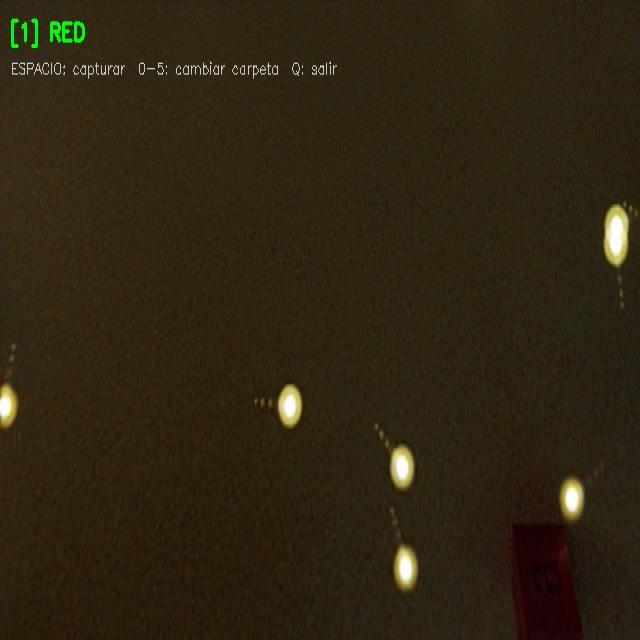red: (515, 524, 579, 640)
